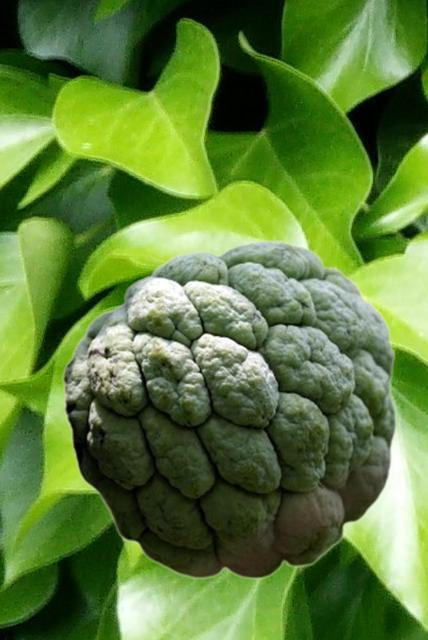atis: (61, 239, 397, 579)
